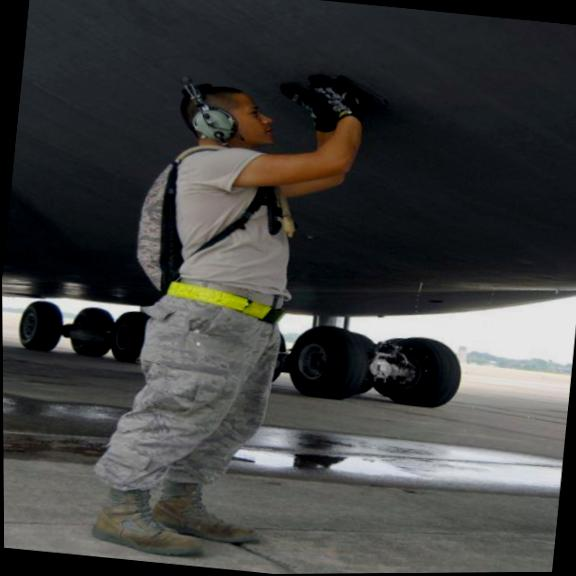no_safety_vest: (130, 133, 307, 346)
